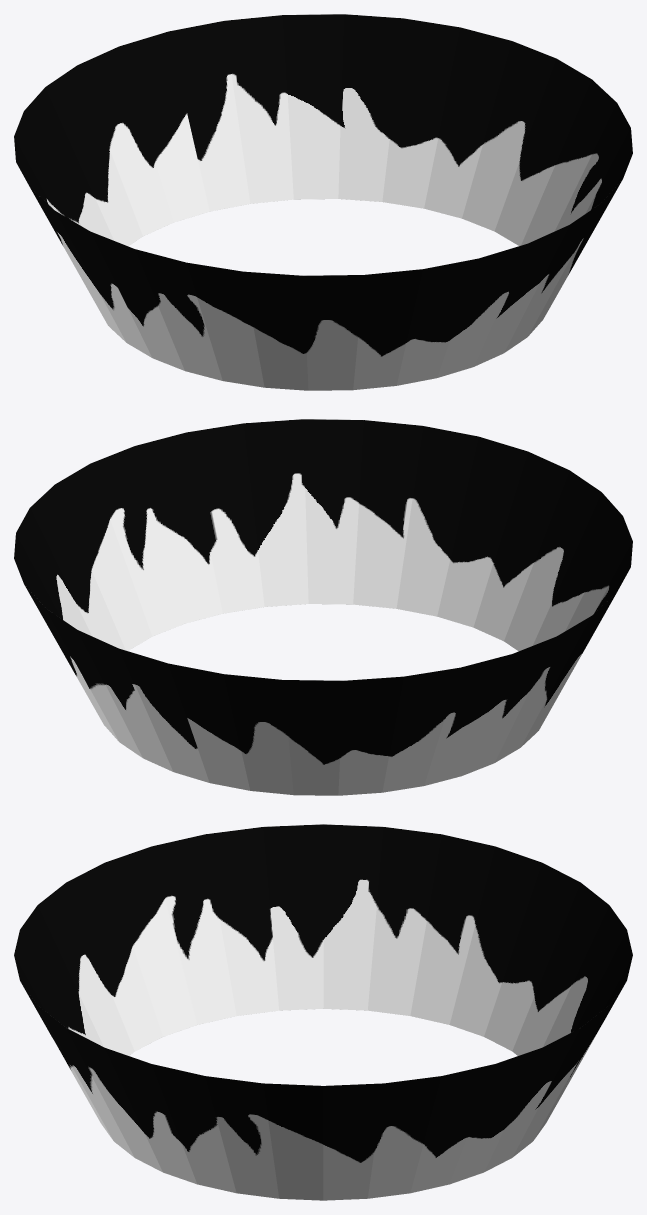
The model's file is GroundEffect.glb.
The picture shows the model from 3 angles, top to bottom: view 1: azimuth 30°, elevation 25°; view 2: azimuth 150°, elevation 25°; view 3: azimuth 270°, elevation 25°; orthographic projection.
Visible parts, largest first — view 1: Cylinder; view 2: Cylinder; view 3: Cylinder.
Boxes of the visible parts, x1,y1,x2,y2 form: Cylinder: (14,14,632,390); Cylinder: (14,419,632,795); Cylinder: (14,824,632,1200).
Bounding box in the file's own units: 3 × 0.8 × 3.
1 material, 1 textured.
